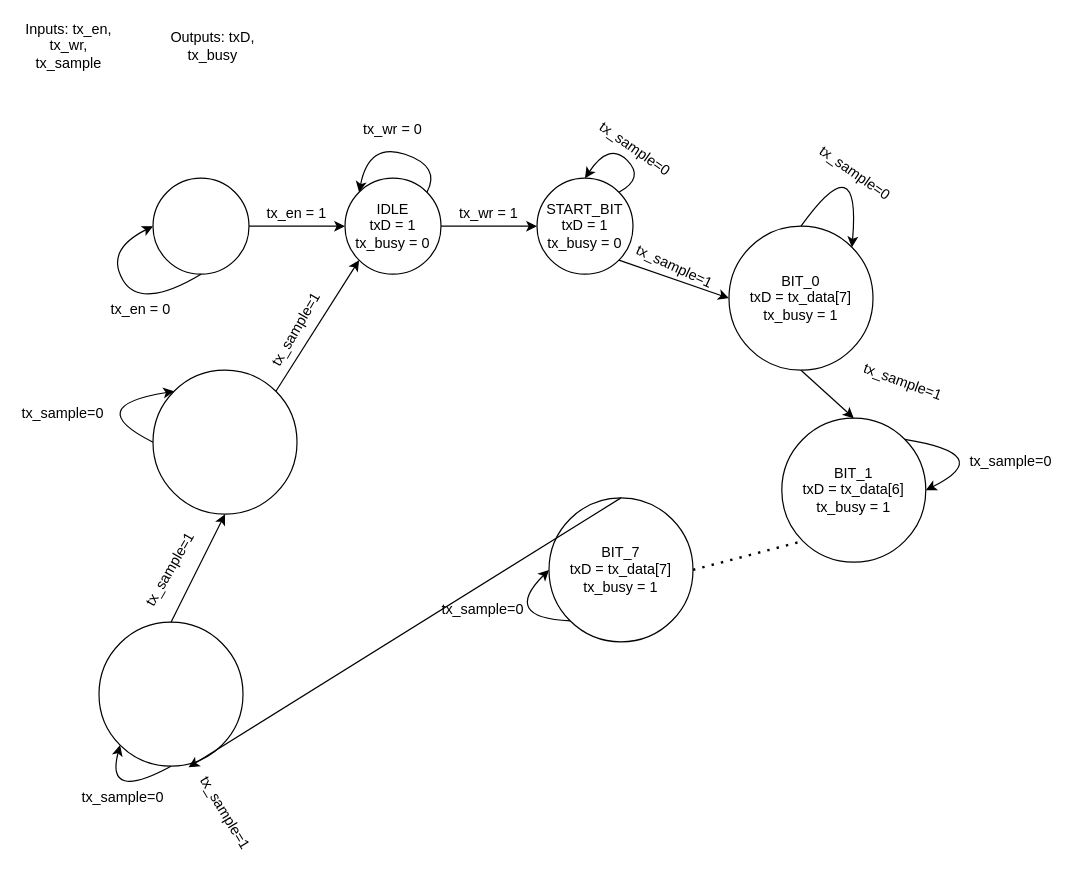
The diagram is 1073 pixels wide and 875 high, and some of its shapes have lost their labels. The box of each missing label's shape, as (x1, y1, x2, y2) in pixels:
DISABLED txD = 1 tx_busy = 0: (152, 177, 249, 274)
PARITY_BIT txD = ^tx_data tx_busy = 1: (98, 621, 243, 766)
STOP_BIT txD = 1 tx_busy = 1: (152, 369, 297, 514)
